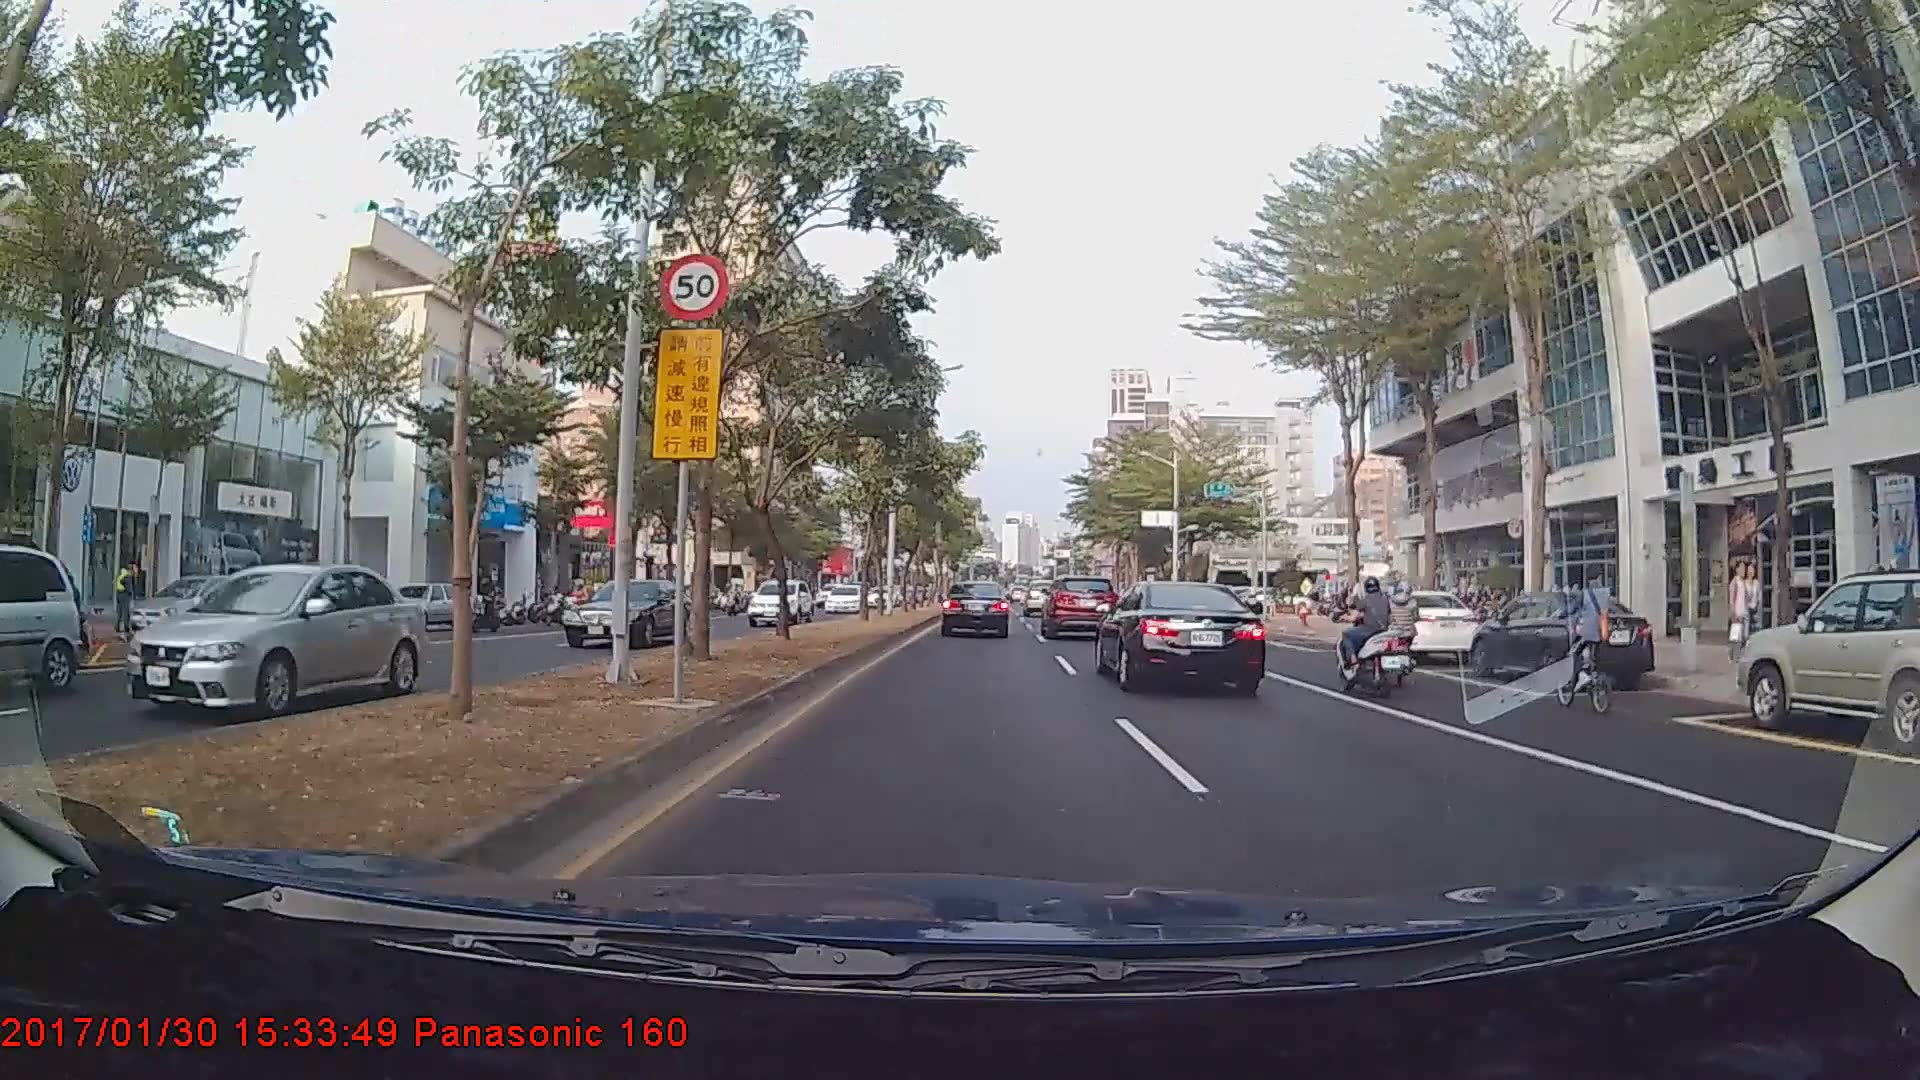pedestrian: (1728, 565, 1749, 661), (1746, 565, 1766, 662)
rider: (1548, 571, 1628, 723), (1333, 574, 1417, 705), (1378, 580, 1427, 683)
vehicle: (122, 565, 426, 721), (1736, 569, 1920, 755), (1096, 575, 1266, 697), (1470, 585, 1655, 692), (0, 535, 86, 699), (1349, 591, 1486, 671), (558, 575, 695, 649), (127, 571, 268, 642), (366, 580, 471, 630), (1041, 575, 1118, 638), (939, 578, 1010, 639), (744, 579, 813, 628), (1022, 580, 1062, 618), (823, 584, 862, 614)
